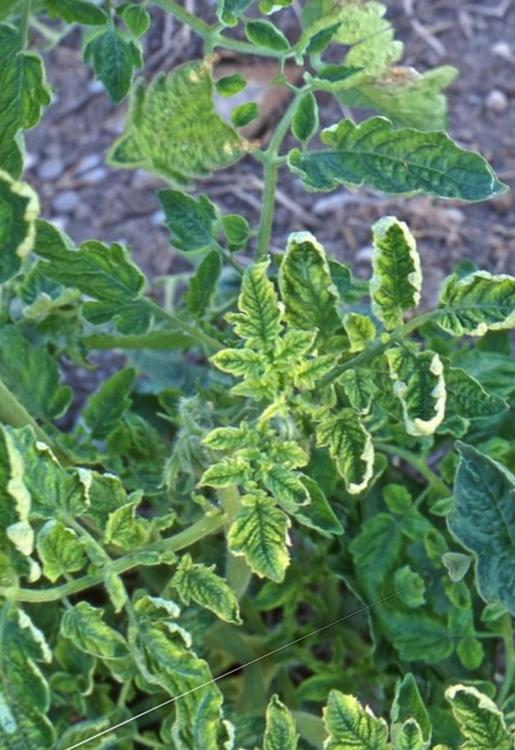Tomato leaf yellow virus: (422, 213, 515, 400), (328, 205, 448, 338), (208, 476, 319, 601), (210, 250, 309, 361), (377, 333, 471, 444), (161, 546, 252, 651), (308, 402, 392, 502), (20, 509, 99, 593), (263, 313, 328, 373)
